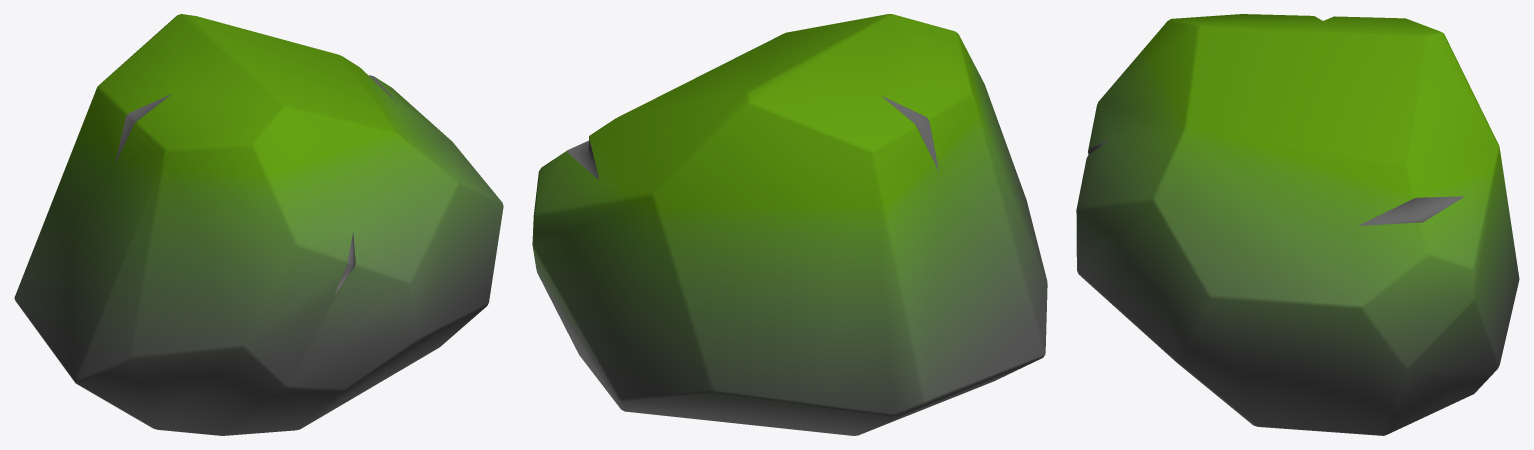
File: Rock01_1.fbx
The picture shows the model from 3 angles, left to right: view 1: azimuth 30°, elevation 25°; view 2: azimuth 150°, elevation 25°; view 3: azimuth 270°, elevation 25°; orthographic projection. The views are drawn at different scales.
Parts seen in each view (by area): view 1: LOD0; view 2: LOD0; view 3: LOD0.
Boxes of the visible parts, x1,y1,x2,y2 form: LOD0: (14,14,503,435); LOD0: (532,14,1047,435); LOD0: (1076,14,1519,435).
Size of what is drawn, in the model's own units: 523 by 465 by 365.
